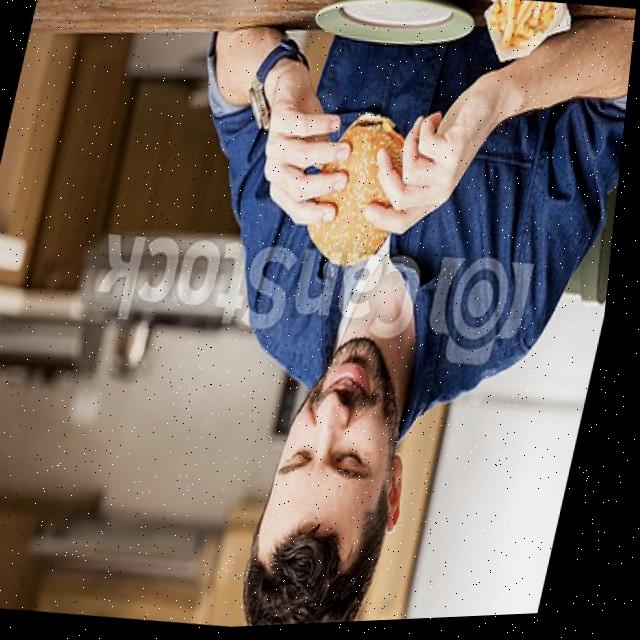eating-person: (87, 0, 640, 635)
